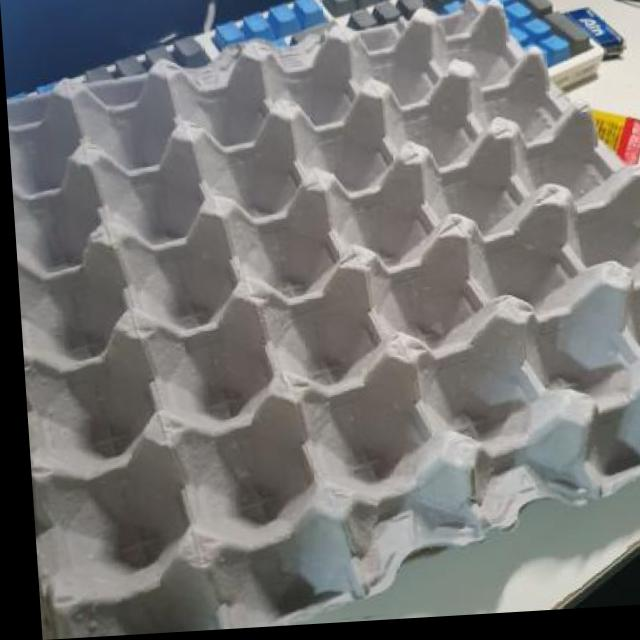box: (2, 4, 640, 640)
